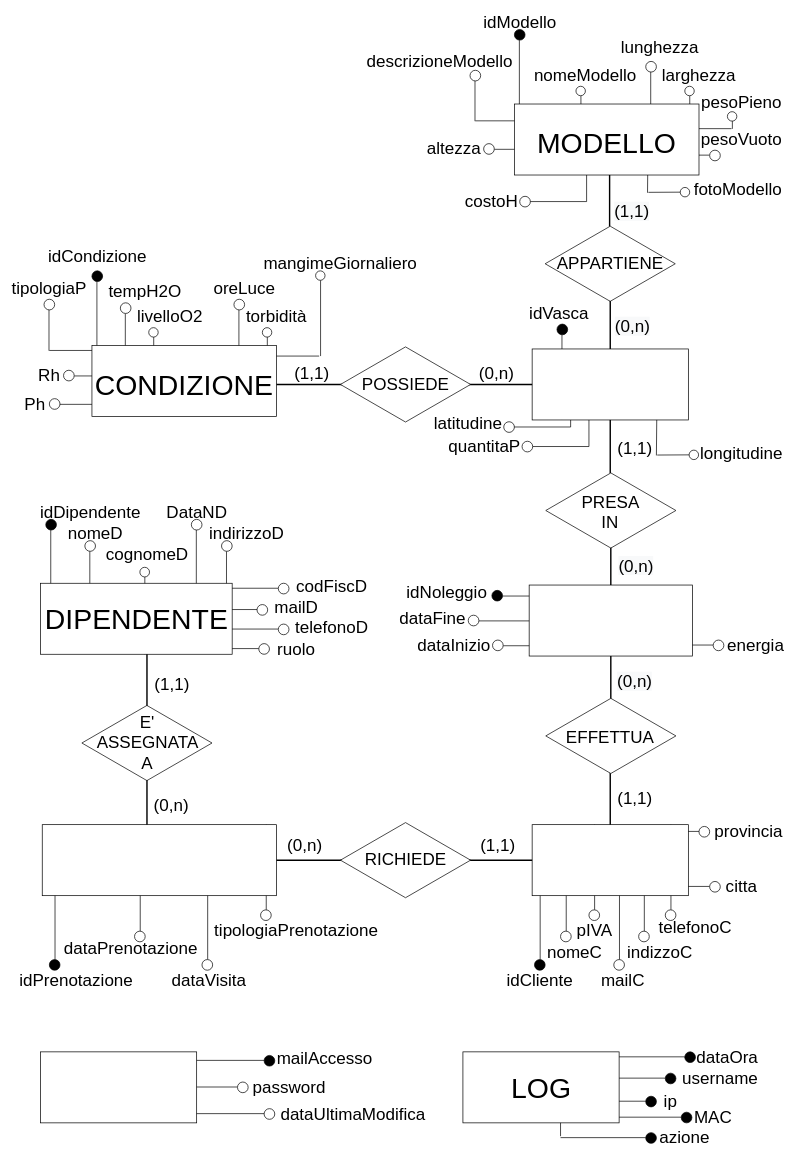
The diagram is 797 pixels wide and 1161 high, and some of its shapes have lost their labels. Here are the shapes that lost their labels. From the top down, the box of each, then its label:
(531, 348, 688, 420): VASCA
(528, 584, 692, 656): NOLEGGIO
(42, 824, 277, 896): PRENOTAZIONE
(531, 824, 688, 896): CLIENTE
(40, 1051, 197, 1123): ACCESSO
